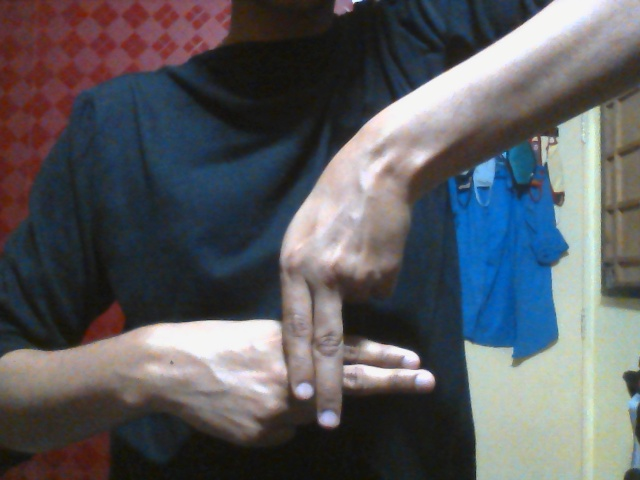F: (158, 169, 436, 449)
